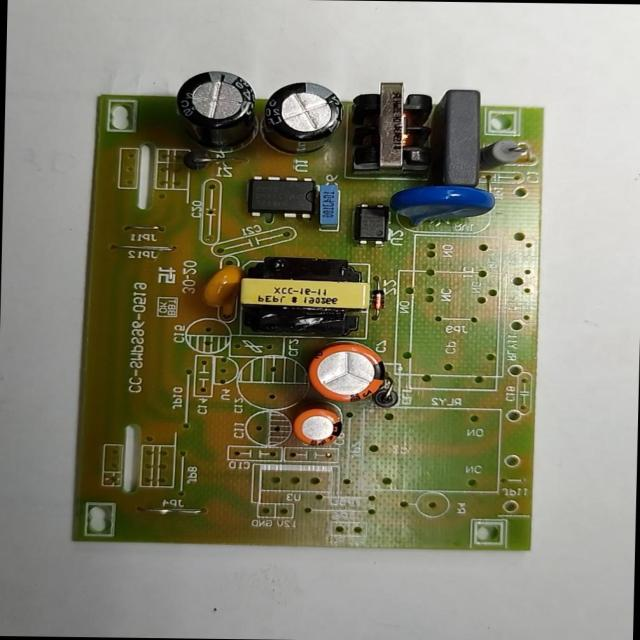Cap1: (306, 342, 388, 404)
Cap2: (292, 408, 343, 447)
Cap3: (258, 80, 344, 158)
Cap4: (173, 72, 261, 156)
MOSFET: (248, 175, 316, 220)
Mov: (386, 185, 498, 232)
Resistor: (478, 137, 524, 172)
Transformer: (239, 258, 368, 338), (348, 80, 435, 176)
